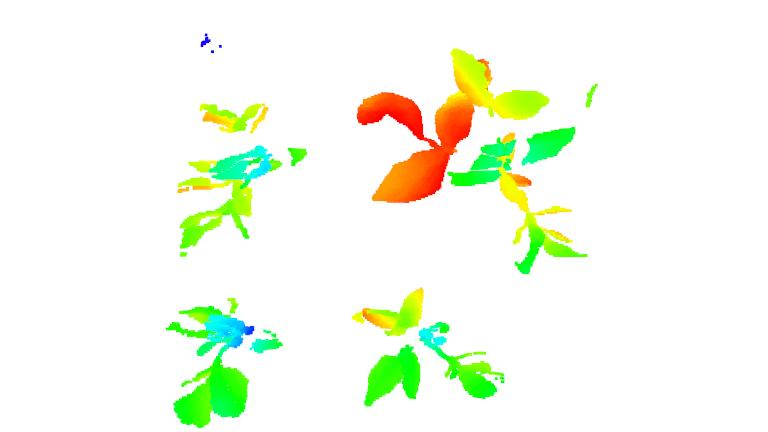mungbean: (355, 44, 594, 278), (168, 94, 307, 258), (349, 286, 512, 412), (164, 286, 287, 430)
